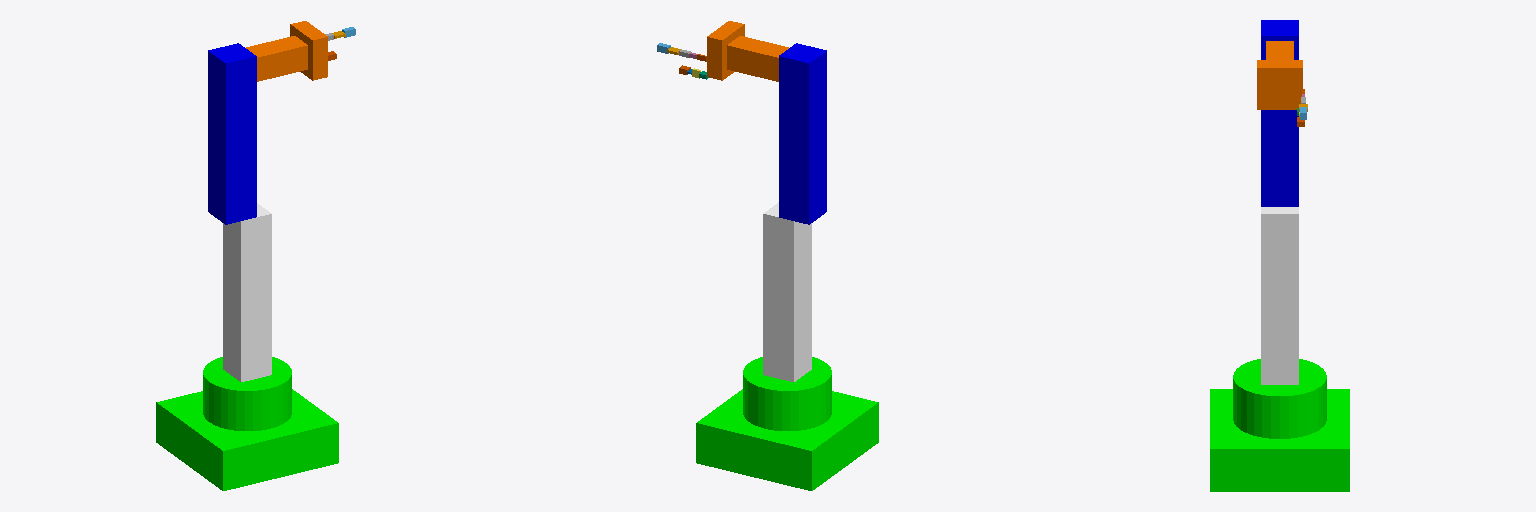
URDF robot description (robot):
<?xml version='1.0' encoding='utf-8'?>
<robot name="robot">
  <link name="base_link">
    <visual>
      <origin xyz="0 0 0.125" rpy="0 0 0" />
      <geometry>
        <box size="0.75 0.75 0.25" />
      </geometry>
      <material name="green" />
    </visual>
    <visual>
      <origin xyz="0 0 0.375" rpy="0 0 0" />
      <geometry>
        <cylinder length="0.25" radius="0.25" />
      </geometry>
      <material name="green">
        <color rgba="0 1 0 1" />
      </material>
    </visual>
    <collision>
      <geometry>
        <box size="0.75 0.75 0.5" />
      </geometry>
    </collision>
    <inertial>
      <mass value="0.5" />
      <inertia ixx="0.034" ixy="0.0" ixz="0.0" iyy="0.034" iyz="0.0" izz="0.034" />
    </inertial>
  </link>
  <link name="support_link">
    <visual>
      <origin xyz="0 0 0.5" rpy="0 0 0" />
      <geometry>
        <box size="0.2 0.2 1" />
      </geometry>
      <material name="white">
        <color rgba="1 1 1 1" />
      </material>
    </visual>
    <collision>
      <geometry>
        <box size="0.2 0.2 1" />
      </geometry>
    </collision>
    <inertial>
      <mass value="0.1" />
      <inertia ixx="0.01" ixy="0.0" ixz="0.0" iyy="0.01" iyz="0.0" izz="0.01" />
    </inertial>
  </link>
  <joint name="support_joint" type="continuous">
    <origin xyz="0 0 0.5" rpy="0 0 0" />
    <parent link="base_link" />
    <child link="support_link" />
    <axis xyz="0 0 1" />
  </joint>
  <link name="arm_link">
    <visual>
      <origin xyz="0 0 0.5" rpy="0 0 0" />
      <geometry>
        <box size="0.2 0.2 1" />
      </geometry>
      <material name="blue">
        <color rgba="0 0 1 1" />
      </material>
    </visual>
    <collision>
      <geometry>
        <box size="0.2 0.2 1" />
      </geometry>
    </collision>
    <inertial>
      <mass value="0.1" />
      <inertia ixx="0.01" ixy="0.0" ixz="0.0" iyy="0.01" iyz="0.0" izz="0.01" />
    </inertial>
  </link>
  <joint name="arm_joint" type="revolute">
    <origin xyz="-0.1 0 1" rpy="0 0 0" />
    <parent link="support_link" />
    <child link="arm_link" />
    <axis xyz="0 1 0" />
    <limit lower="-3.14" upper="3.14" effort="1.0" velocity="1.0" />
  </joint>
  <link name="wrist_link">
    <visual>
      <origin xyz="0 0 0.25" rpy="0 0 0" />
      <geometry>
        <box size="0.15 0.15 0.5" />
      </geometry>
      <material name="orange">
        <color rgba="1 0.5 0 1" />
      </material>
    </visual>
    <collision>
      <geometry>
        <box size="0.15 0.15 0.5" />
      </geometry>
    </collision>
    <inertial>
      <mass value="0.1" />
      <inertia ixx="0.01" ixy="0.0" ixz="0.0" iyy="0.01" iyz="0.0" izz="0.01" />
    </inertial>
  </link>
  <joint name="wrist_joint" type="fixed">
    <origin xyz="0 0 0.9" rpy="0 1.571 0" />
    <parent link="arm_link" />
    <child link="wrist_link" />
  </joint>
  <link name="palm_link">
    <visual>
      <origin xyz="0 0 0.05" rpy="0 0 0" />
      <geometry>
        <box size="0.25 0.25 0.1" />
      </geometry>
      <material name="orange" />
    </visual>
    <collision>
      <geometry>
        <box size="0.25 0.25 0.1" />
      </geometry>
    </collision>
    <inertial>
      <mass value="0.1" />
      <inertia ixx="0.01" ixy="0.0" ixz="0.0" iyy="0.01" iyz="0.0" izz="0.01" />
    </inertial>
  </link>
  <joint name="palm_joint" type="fixed">
    <origin xyz="0 0 0.45" rpy="0 0 0" />
    <parent link="wrist_link" />
    <child link="palm_link" />
  </joint>
  <link name="finger_link_0_0">
    <visual>
      <origin xyz="0 0 0.0305" rpy="0 0 0" />
      <geometry>
        <box size="0.031 0.013 0.061" />
      </geometry>
    </visual>
    <collision>
      <geometry>
        <box size="0.031 0.013 0.061" />
      </geometry>
    </collision>
    <inertial>
      <mass value="0.007" />
      <inertia ixx="0.0" iyy="0.0" izz="0.0" ixy="0" ixz="0" iyz="0" />
    </inertial>
  </link>
  <joint name="finger_joint_palm_link_to_finger_link_0_0" type="revolute">
    <origin xyz="0.013 0.125 0.1" rpy="0 0 0" />
    <parent link="palm_link" />
    <child link="finger_link_0_0" />
    <axis xyz="-1.0 0.0 0.0" />
    <limit lower="-3.142" upper="3.142" effort="10" velocity="10" />
  </joint>
  <link name="finger_link_0_1">
    <visual>
      <origin xyz="0 0 0.0235" rpy="0 0 0" />
      <geometry>
        <box size="0.025 0.02 0.047" />
      </geometry>
    </visual>
    <collision>
      <geometry>
        <box size="0.025 0.02 0.047" />
      </geometry>
    </collision>
    <inertial>
      <mass value="0.007" />
      <inertia ixx="0.0" iyy="0.0" izz="0.0" ixy="0" ixz="0" iyz="0" />
    </inertial>
  </link>
  <joint name="finger_joint_finger_link_0_0_to_finger_link_0_1" type="revolute">
    <origin xyz="0.0 0.0 0.061" rpy="0 0 0" />
    <parent link="finger_link_0_0" />
    <child link="finger_link_0_1" />
    <axis xyz="0.0 1.0 0.0" />
    <limit lower="-3.142" upper="3.142" effort="10" velocity="10" />
  </joint>
  <link name="finger_link_0_2">
    <visual>
      <origin xyz="0 0 0.0335" rpy="0 0 0" />
      <geometry>
        <box size="0.028 0.03 0.067" />
      </geometry>
    </visual>
    <collision>
      <geometry>
        <box size="0.028 0.03 0.067" />
      </geometry>
    </collision>
    <inertial>
      <mass value="0.017" />
      <inertia ixx="0.0" iyy="0.0" izz="0.0" ixy="0" ixz="0" iyz="0" />
    </inertial>
  </link>
  <joint name="finger_joint_finger_link_0_1_to_finger_link_0_2" type="revolute">
    <origin xyz="0.0 0.0 0.047" rpy="0 0 0" />
    <parent link="finger_link_0_1" />
    <child link="finger_link_0_2" />
    <axis xyz="0.0 1.0 0.0" />
    <limit lower="-3.142" upper="3.142" effort="10" velocity="10" />
  </joint>
  <link name="finger_link_0_3">
    <visual>
      <origin xyz="0 0 0.0345" rpy="0 0 0" />
      <geometry>
        <box size="0.016 0.049 0.069" />
      </geometry>
    </visual>
    <collision>
      <geometry>
        <box size="0.016 0.049 0.069" />
      </geometry>
    </collision>
    <inertial>
      <mass value="0.016" />
      <inertia ixx="0.0" iyy="0.0" izz="0.0" ixy="0" ixz="0" iyz="0" />
    </inertial>
  </link>
  <joint name="finger_joint_finger_link_0_2_to_finger_link_0_3" type="revolute">
    <origin xyz="0.0 0.0 0.067" rpy="0 0 0" />
    <parent link="finger_link_0_2" />
    <child link="finger_link_0_3" />
    <axis xyz="0.0 1.0 0.0" />
    <limit lower="-3.142" upper="3.142" effort="10" velocity="10" />
  </joint>
  <link name="finger_link_0_4">
    <visual>
      <origin xyz="0 0 0.0345" rpy="0 0 0" />
      <geometry>
        <box size="0.041 0.033 0.069" />
      </geometry>
    </visual>
    <collision>
      <geometry>
        <box size="0.041 0.033 0.069" />
      </geometry>
    </collision>
    <inertial>
      <mass value="0.028" />
      <inertia ixx="0.0" iyy="0.0" izz="0.0" ixy="0" ixz="0" iyz="0" />
    </inertial>
  </link>
  <joint name="finger_joint_finger_link_0_3_to_finger_link_0_4" type="revolute">
    <origin xyz="0.0 0.0 0.069" rpy="0 0 0" />
    <parent link="finger_link_0_3" />
    <child link="finger_link_0_4" />
    <axis xyz="0.0 1.0 0.0" />
    <limit lower="-3.142" upper="3.142" effort="10" velocity="10" />
  </joint>
  <link name="finger_link_1_0">
    <visual>
      <origin xyz="0 0 0.025" rpy="0 0 0" />
      <geometry>
        <box size="0.025 0.042 0.05" />
      </geometry>
    </visual>
    <collision>
      <geometry>
        <box size="0.025 0.042 0.05" />
      </geometry>
    </collision>
    <inertial>
      <mass value="0.016" />
      <inertia ixx="0.0" iyy="0.0" izz="0.0" ixy="0" ixz="0" iyz="0" />
    </inertial>
  </link>
  <joint name="finger_joint_palm_link_to_finger_link_1_0" type="revolute">
    <origin xyz="0.125 0.111 0.1" rpy="0 0 0" />
    <parent link="palm_link" />
    <child link="finger_link_1_0" />
    <axis xyz="0.0 1.0 0.0" />
    <limit lower="-3.142" upper="3.142" effort="10" velocity="10" />
  </joint>
  <link name="finger_link_1_1">
    <visual>
      <origin xyz="0 0 0.024" rpy="0 0 0" />
      <geometry>
        <box size="0.046 0.017 0.048" />
      </geometry>
    </visual>
    <collision>
      <geometry>
        <box size="0.046 0.017 0.048" />
      </geometry>
    </collision>
    <inertial>
      <mass value="0.011" />
      <inertia ixx="0.0" iyy="0.0" izz="0.0" ixy="0" ixz="0" iyz="0" />
    </inertial>
  </link>
  <joint name="finger_joint_finger_link_1_0_to_finger_link_1_1" type="revolute">
    <origin xyz="0.0 0.0 0.05" rpy="0 0 0" />
    <parent link="finger_link_1_0" />
    <child link="finger_link_1_1" />
    <axis xyz="0.0 1.0 0.0" />
    <limit lower="-3.142" upper="3.142" effort="10" velocity="10" />
  </joint>
  <link name="finger_link_1_2">
    <visual>
      <origin xyz="0 0 0.014" rpy="0 0 0" />
      <geometry>
        <box size="0.012 0.038 0.028" />
      </geometry>
    </visual>
    <collision>
      <geometry>
        <box size="0.012 0.038 0.028" />
      </geometry>
    </collision>
    <inertial>
      <mass value="0.004" />
      <inertia ixx="0.0" iyy="0.0" izz="0.0" ixy="0" ixz="0" iyz="0" />
    </inertial>
  </link>
  <joint name="finger_joint_finger_link_1_1_to_finger_link_1_2" type="revolute">
    <origin xyz="0.0 0.0 0.048" rpy="0 0 0" />
    <parent link="finger_link_1_1" />
    <child link="finger_link_1_2" />
    <axis xyz="1.0 1.0 0.0" />
    <limit lower="-3.142" upper="3.142" effort="10" velocity="10" />
  </joint>
  <link name="finger_link_1_3">
    <visual>
      <origin xyz="0 0 0.0265" rpy="0 0 0" />
      <geometry>
        <box size="0.034 0.041 0.053" />
      </geometry>
    </visual>
    <collision>
      <geometry>
        <box size="0.034 0.041 0.053" />
      </geometry>
    </collision>
    <inertial>
      <mass value="0.022" />
      <inertia ixx="0.0" iyy="0.0" izz="0.0" ixy="0" ixz="0" iyz="0" />
    </inertial>
  </link>
  <joint name="finger_joint_finger_link_1_2_to_finger_link_1_3" type="revolute">
    <origin xyz="0.0 0.0 0.028" rpy="0 0 0" />
    <parent link="finger_link_1_2" />
    <child link="finger_link_1_3" />
    <axis xyz="0.0 1.0 0.0" />
    <limit lower="-3.142" upper="3.142" effort="10" velocity="10" />
  </joint>
</robot>

--- What the picture shows (computed from the rendered views, not written in the file) ---
The picture shows the robot from 3 angles, left to right: view 1: azimuth 30°, elevation 25°; view 2: azimuth 150°, elevation 25°; view 3: azimuth 270°, elevation 25°; orthographic projection.
Model robot with 14 links and 13 joints (10 revolute, 1 continuous, 2 fixed), rooted at base_link, posed every joint at zero.
Visible links, largest first — view 1: base_link, arm_link, support_link, wrist_link, palm_link; view 2: base_link, arm_link, support_link, wrist_link, palm_link; view 3: base_link, support_link, arm_link, palm_link, wrist_link.
Boxes of the visible links, x1,y1,x2,y2 form: base_link: (156,357,338,490); arm_link: (208,43,256,224); support_link: (223,203,271,381); wrist_link: (246,36,307,81); palm_link: (290,21,327,80); base_link: (696,357,878,490); arm_link: (779,43,826,224); support_link: (763,202,811,381); wrist_link: (727,36,788,81); palm_link: (707,21,744,80); base_link: (1210,359,1349,491); support_link: (1261,207,1298,384); arm_link: (1261,20,1298,206); palm_link: (1257,60,1302,109); wrist_link: (1266,41,1293,59).
Bounding box of the posed robot: 1.14 × 0.75 × 2.52 m (x, y, z).
Geometry: primitives only (box / cylinder / sphere), no mesh files.
